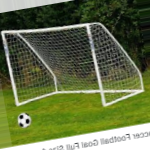goals: (1, 22, 148, 111)
